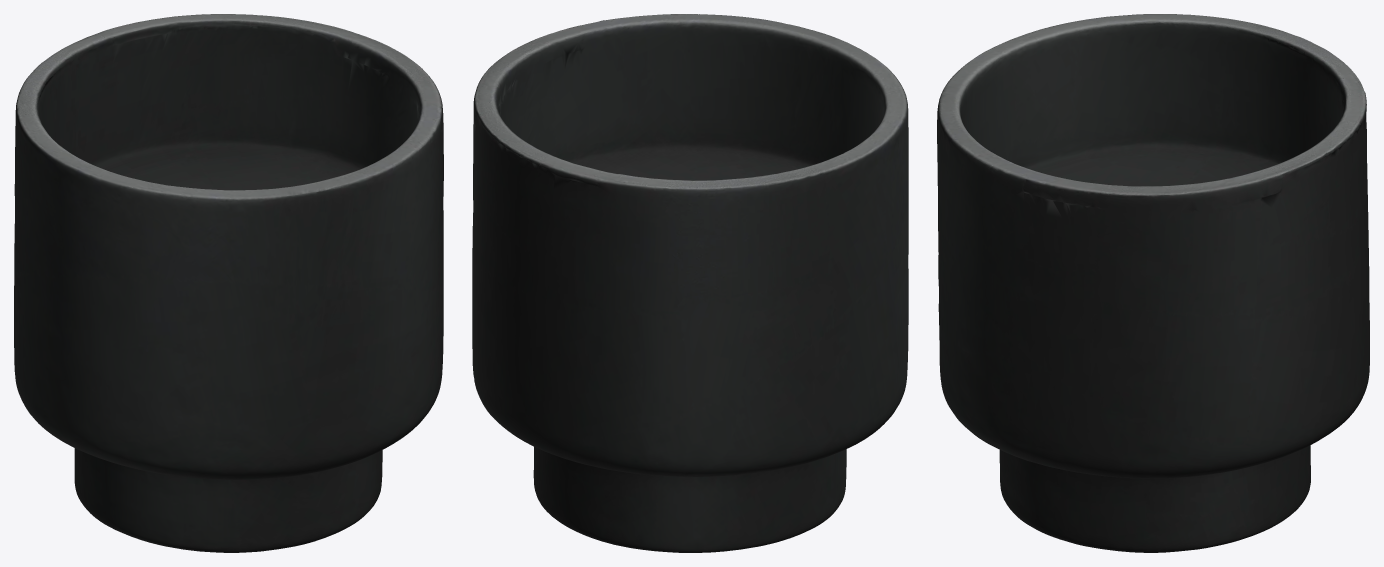
The model's file is cilindrica.glb.
3 renders of one model, left to right at view 1: azimuth 30°, elevation 25°; view 2: azimuth 150°, elevation 25°; view 3: azimuth 270°, elevation 25°, orthographic.
Visible parts, largest first — view 1: tripo_node_f8a38dc7-8eca-40a1-9f53-6b0d087d0bdb; view 2: tripo_node_f8a38dc7-8eca-40a1-9f53-6b0d087d0bdb; view 3: tripo_node_f8a38dc7-8eca-40a1-9f53-6b0d087d0bdb.
Boxes of the visible parts, x1,y1,x2,y2 form: tripo_node_f8a38dc7-8eca-40a1-9f53-6b0d087d0bdb: (14, 14, 443, 552); tripo_node_f8a38dc7-8eca-40a1-9f53-6b0d087d0bdb: (472, 14, 908, 552); tripo_node_f8a38dc7-8eca-40a1-9f53-6b0d087d0bdb: (937, 14, 1369, 552).
Bounding box in the file's own units: 0.9775 × 0.9804 × 0.9775.
1 material, 1 textured.
